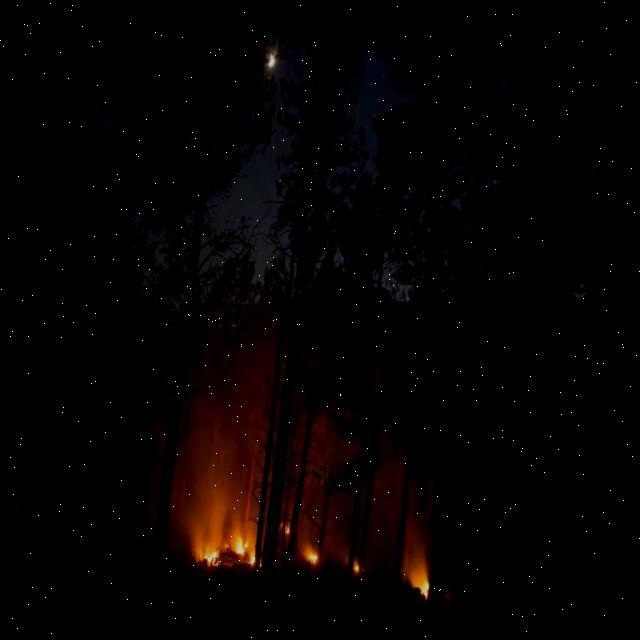Fire: (247, 527, 280, 561), (422, 553, 445, 585), (208, 535, 235, 560), (319, 536, 332, 554), (297, 510, 305, 524), (0, 440, 4, 462), (366, 548, 374, 559)
